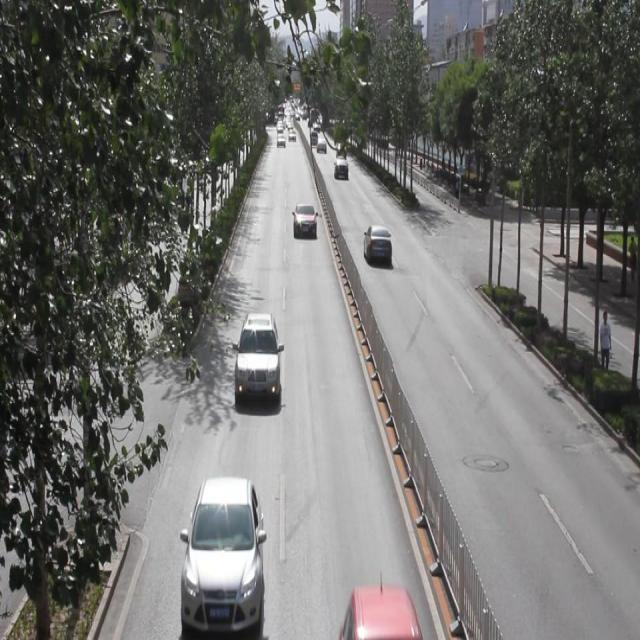car: (182, 476, 264, 627), (340, 585, 422, 640), (235, 313, 281, 405), (362, 225, 392, 267), (293, 203, 316, 239), (333, 157, 348, 178), (335, 140, 346, 160), (316, 136, 327, 153), (276, 133, 286, 148), (287, 129, 296, 142)
truck: (308, 128, 318, 146)
